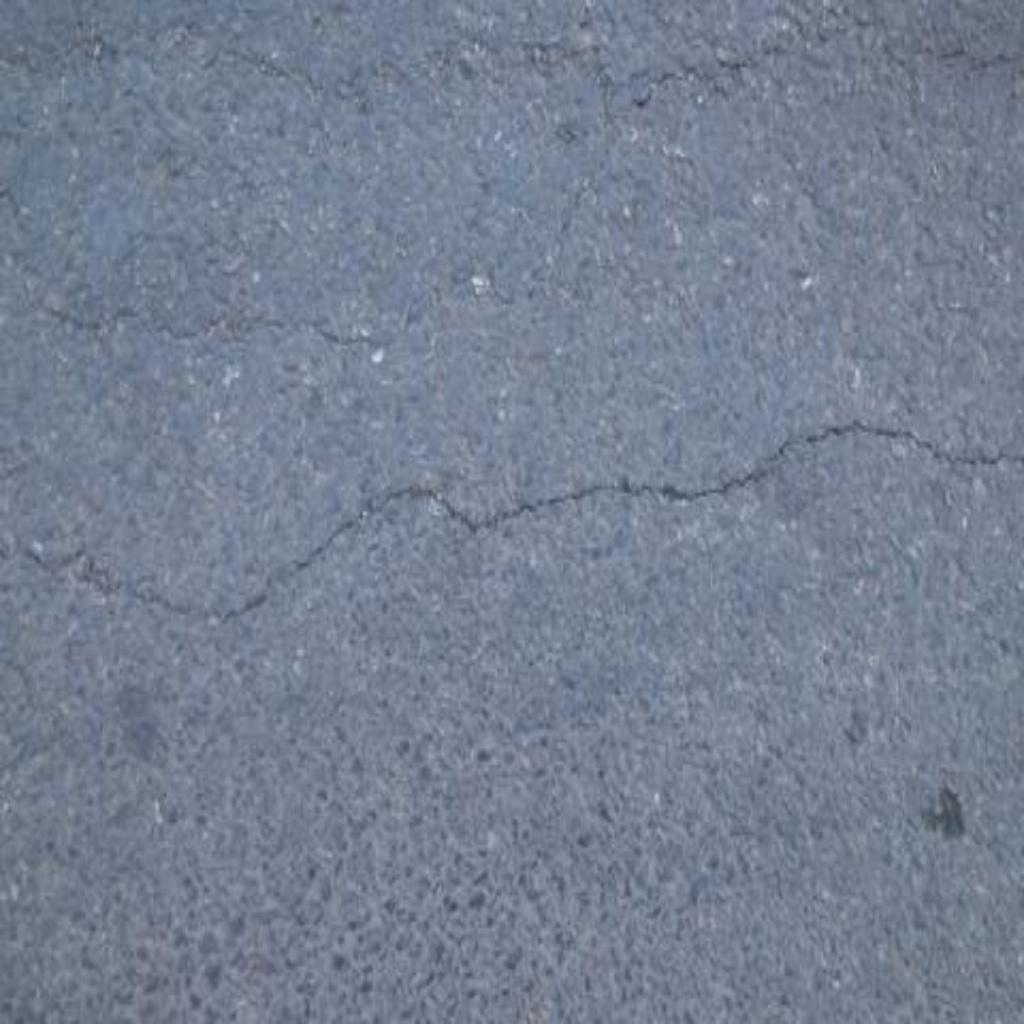Crack: (1, 416, 1024, 624)
